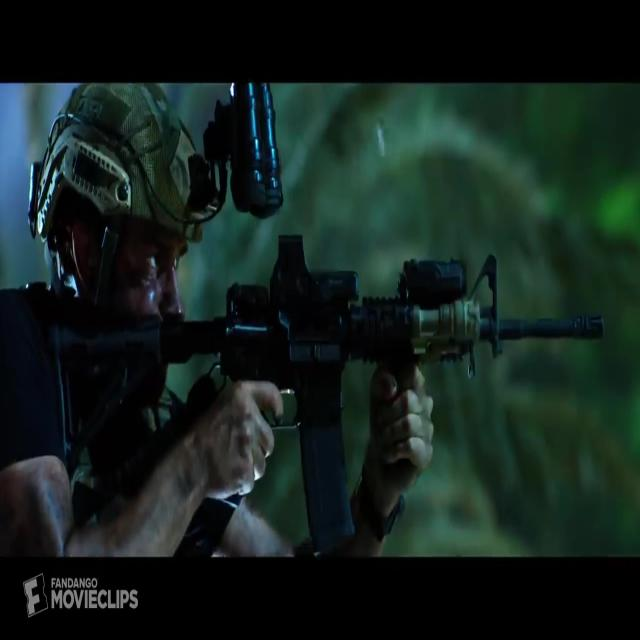Weapon: (42, 273, 630, 550)
